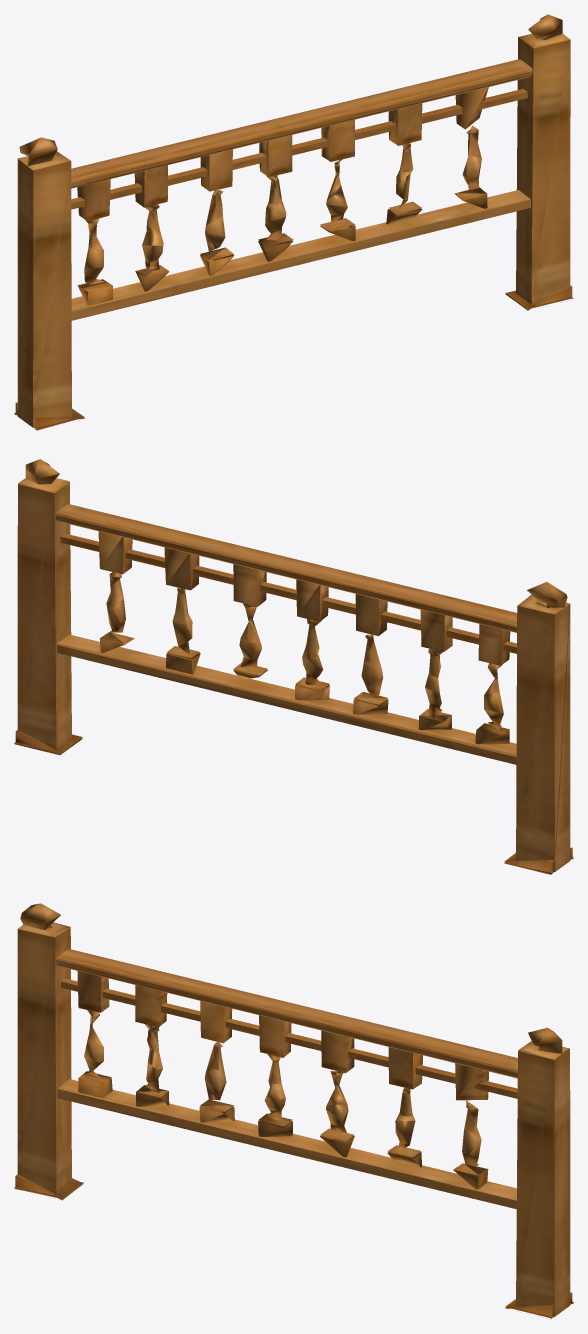
Rendered from railing.lod2.glb.
3 renders of one model, top to bottom at view 1: azimuth 30°, elevation 25°; view 2: azimuth 150°, elevation 25°; view 3: azimuth 330°, elevation 25°, orthographic.
Bounding box in the file's own units: 2 × 1 × 0.149.
1 material, 1 textured.
